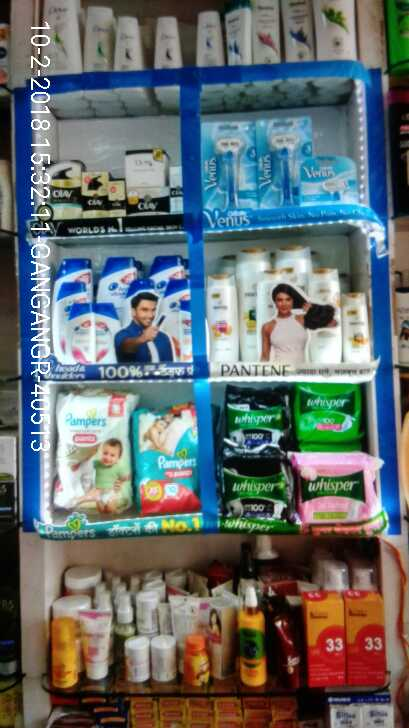venus: (257, 117, 306, 199), (218, 117, 257, 211), (306, 154, 351, 199)
